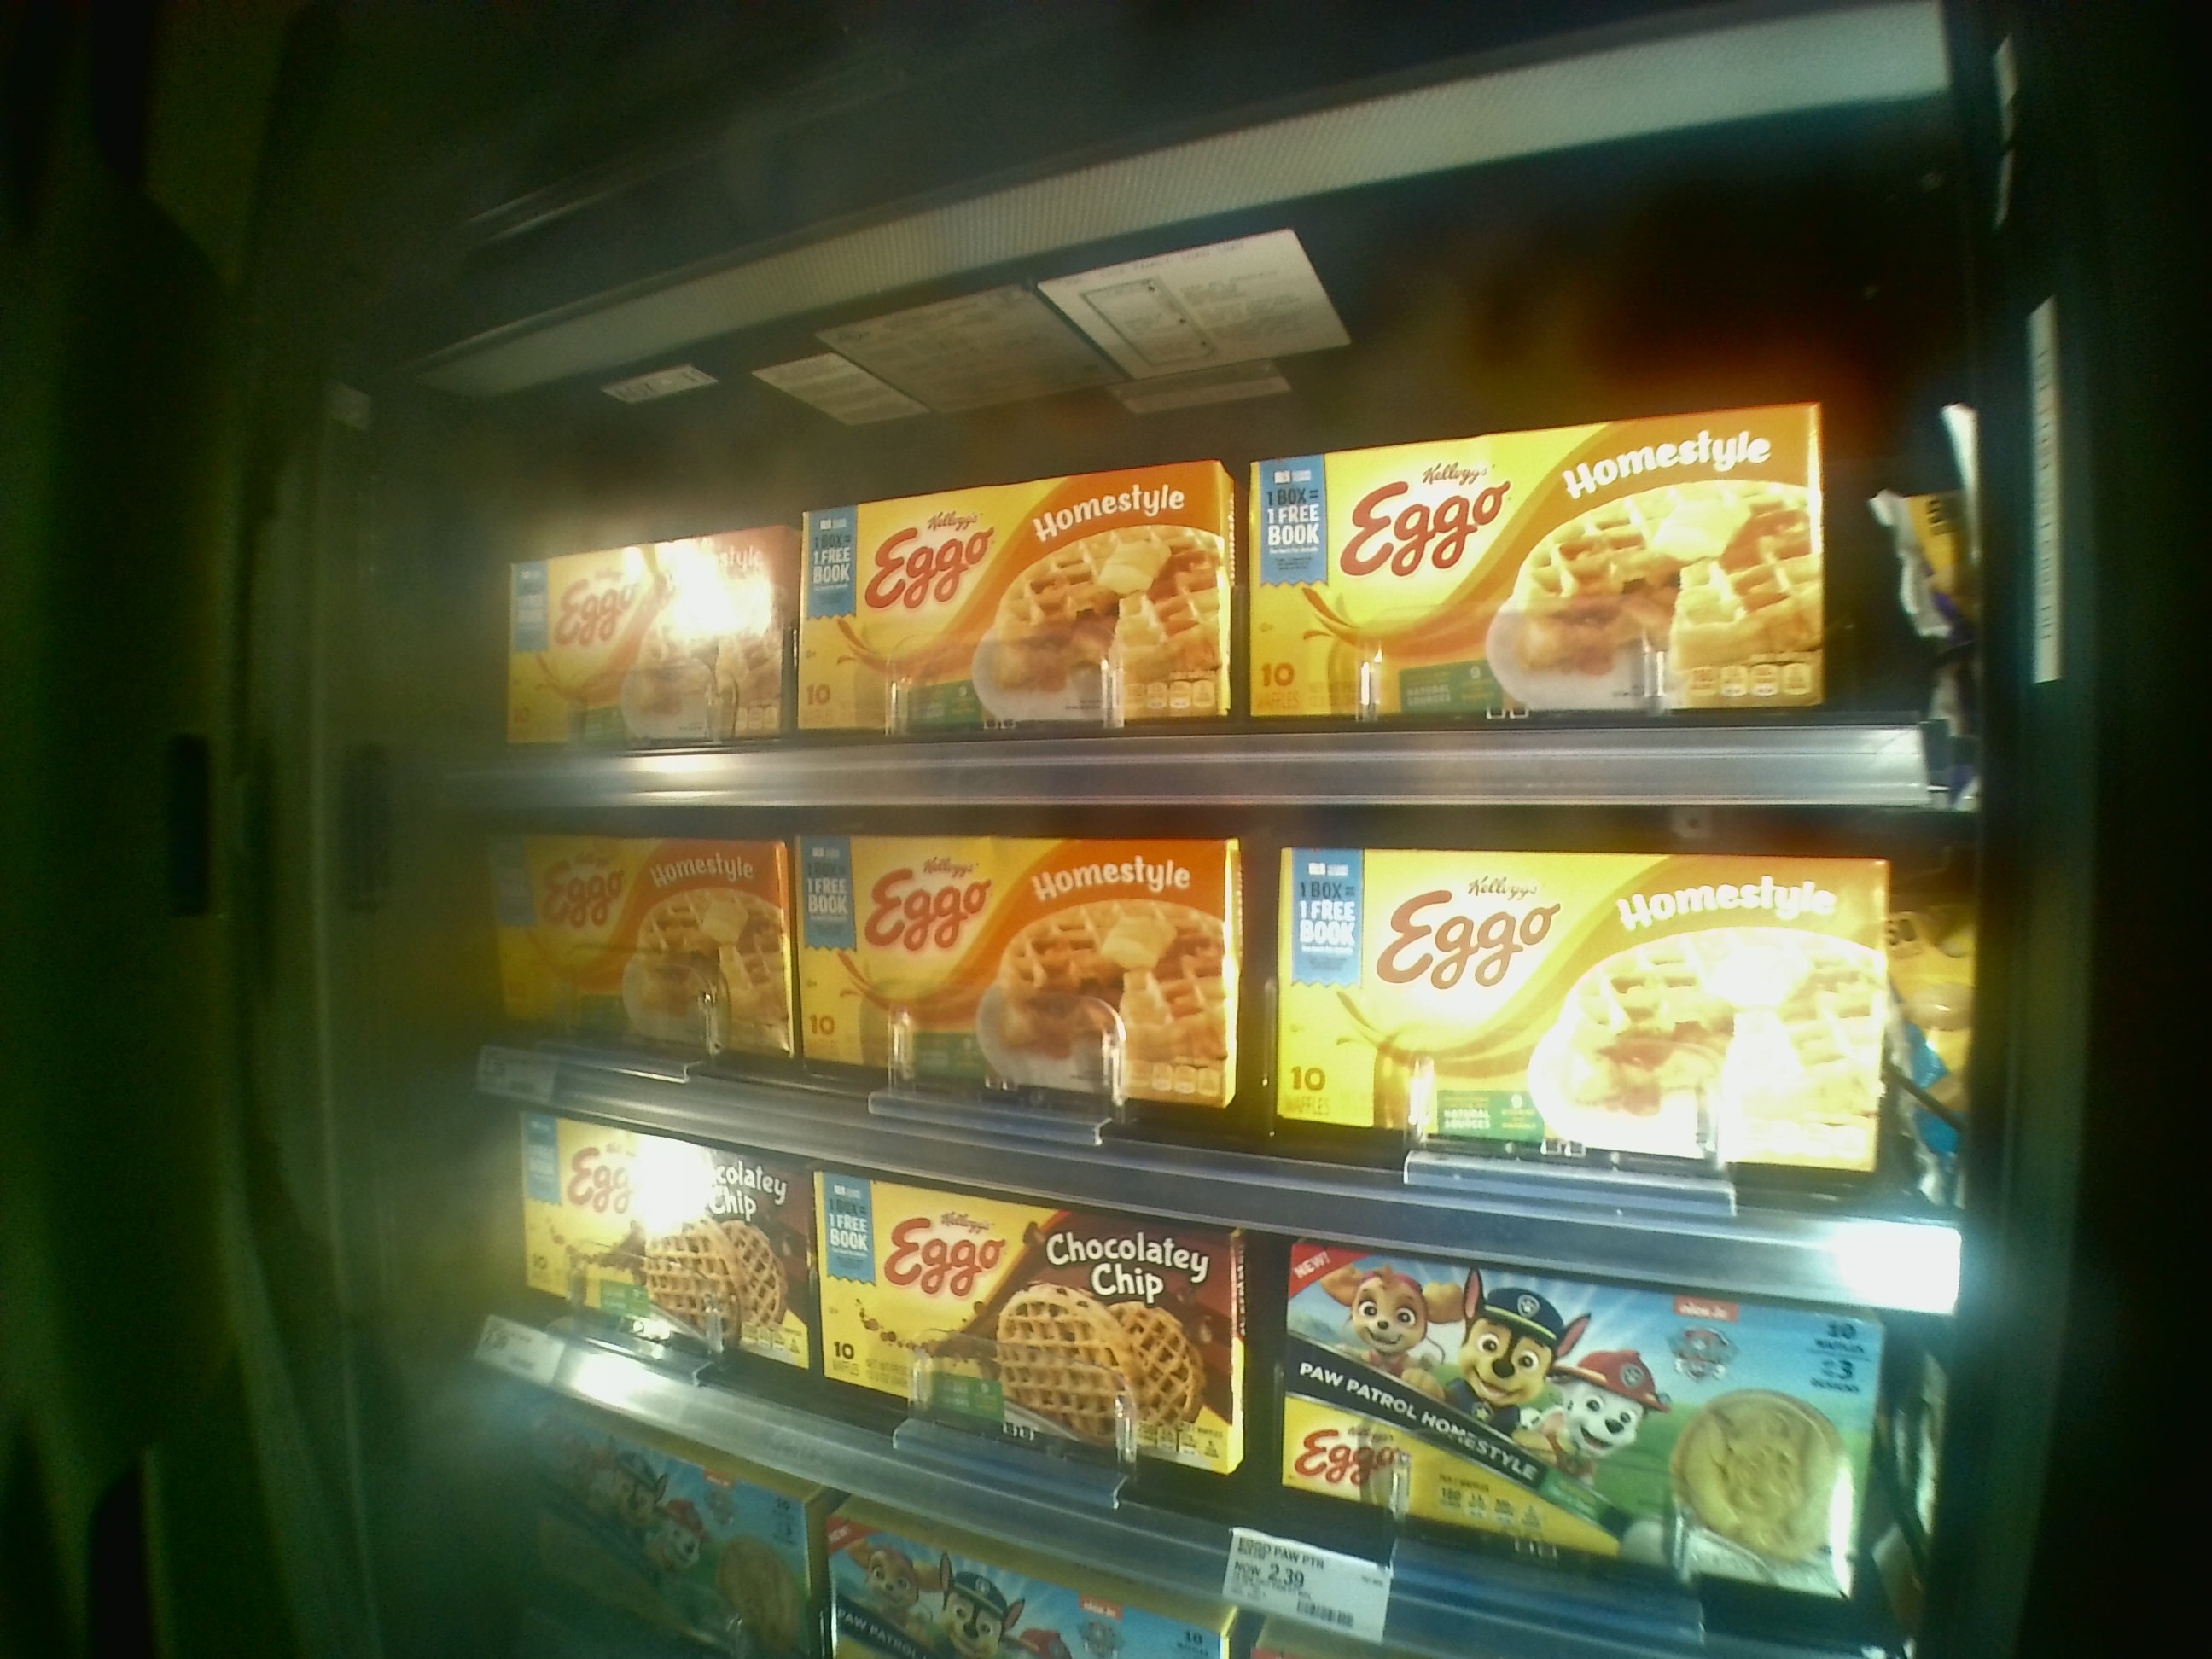shelf: (460, 802, 1968, 1309), (462, 331, 1968, 802)
